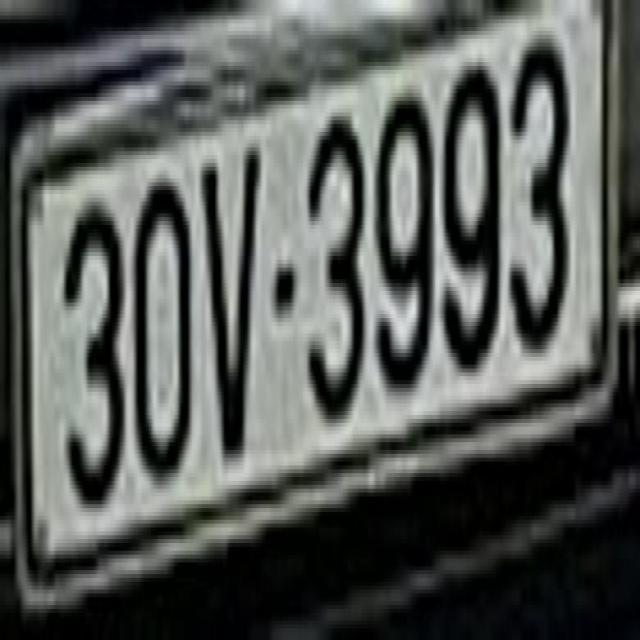0: (136, 178, 189, 458)
3: (511, 23, 572, 345), (308, 100, 364, 434), (64, 194, 126, 493)
9: (442, 66, 500, 365), (378, 89, 433, 384)
V: (208, 128, 262, 431)
